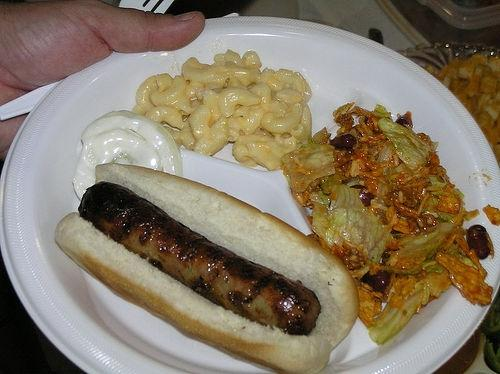lettuce: (309, 184, 397, 264), (435, 249, 494, 307), (378, 117, 433, 174), (368, 292, 422, 346), (281, 144, 336, 192), (386, 227, 446, 267), (421, 244, 475, 274), (372, 104, 394, 121), (430, 174, 444, 187), (422, 210, 440, 218)
